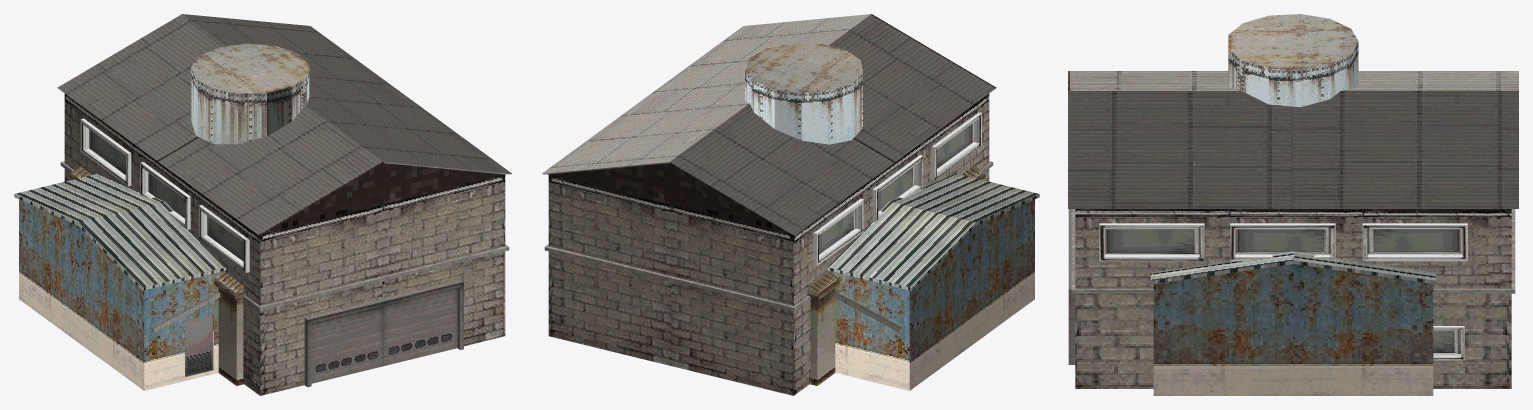
Rendered from psx_industrial_pack.glb.
3 renders of one model, left to right at view 1: azimuth 30°, elevation 25°; view 2: azimuth 150°, elevation 25°; view 3: azimuth 270°, elevation 25°, orthographic. The views are drawn at different scales.
Visible parts, largest first — view 1: pi_workshop, pi_shed, pi_silo, pi_garage; view 2: pi_workshop, pi_shed, pi_silo, pi_garage; view 3: pi_workshop, pi_shed, pi_silo.
Boxes of the visible parts, bbox=[...] form: pi_workshop: bbox=[57, 14, 511, 395]; pi_shed: bbox=[14, 173, 226, 390]; pi_silo: bbox=[191, 43, 309, 144]; pi_garage: bbox=[68, 166, 245, 385]; pi_workshop: bbox=[542, 14, 996, 395]; pi_shed: bbox=[827, 173, 1039, 390]; pi_silo: bbox=[745, 43, 862, 144]; pi_garage: bbox=[808, 166, 985, 385]; pi_workshop: bbox=[1068, 71, 1518, 388]; pi_shed: bbox=[1150, 251, 1436, 395]; pi_silo: bbox=[1228, 14, 1358, 107].
Size of the model in its own units: 29.72 by 19.47 by 30.3.
Materials: 8 (8 with a texture image).
